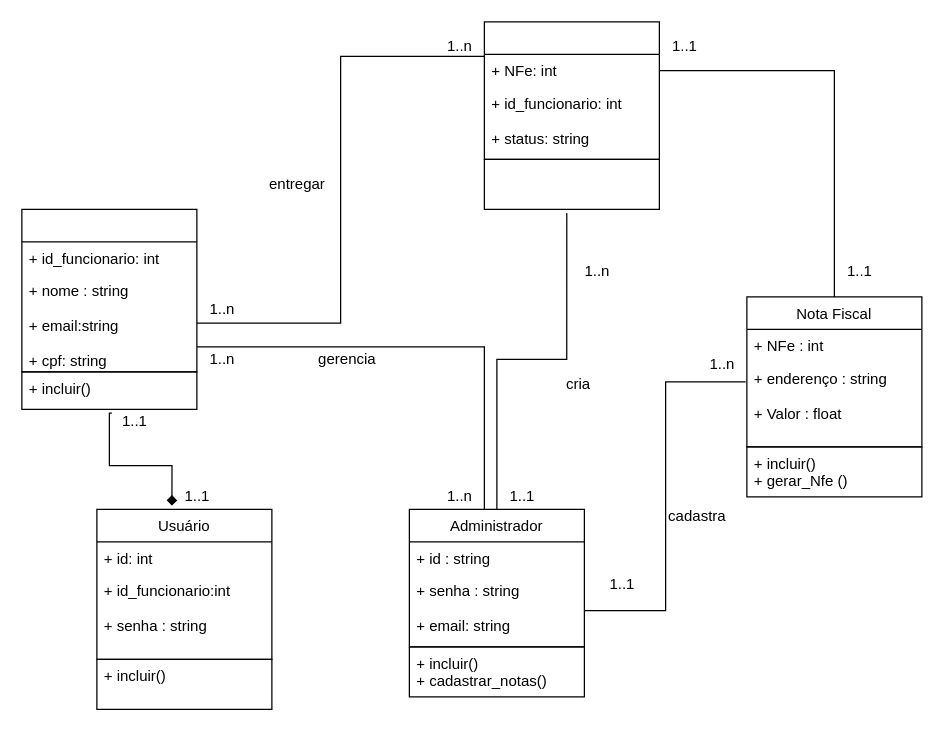
The diagram is 944 pixels wide and 735 high, and some of its shapes have lost their labels. Here are the shapes that lost their labels. From the top down, the box of each, then its label:
(483, 21, 659, 159): Entrega
(483, 158, 659, 209): + incluir() + alterar_status ()
(21, 208, 197, 372): Funcionário
